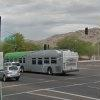Bus: (5, 46, 79, 74)
